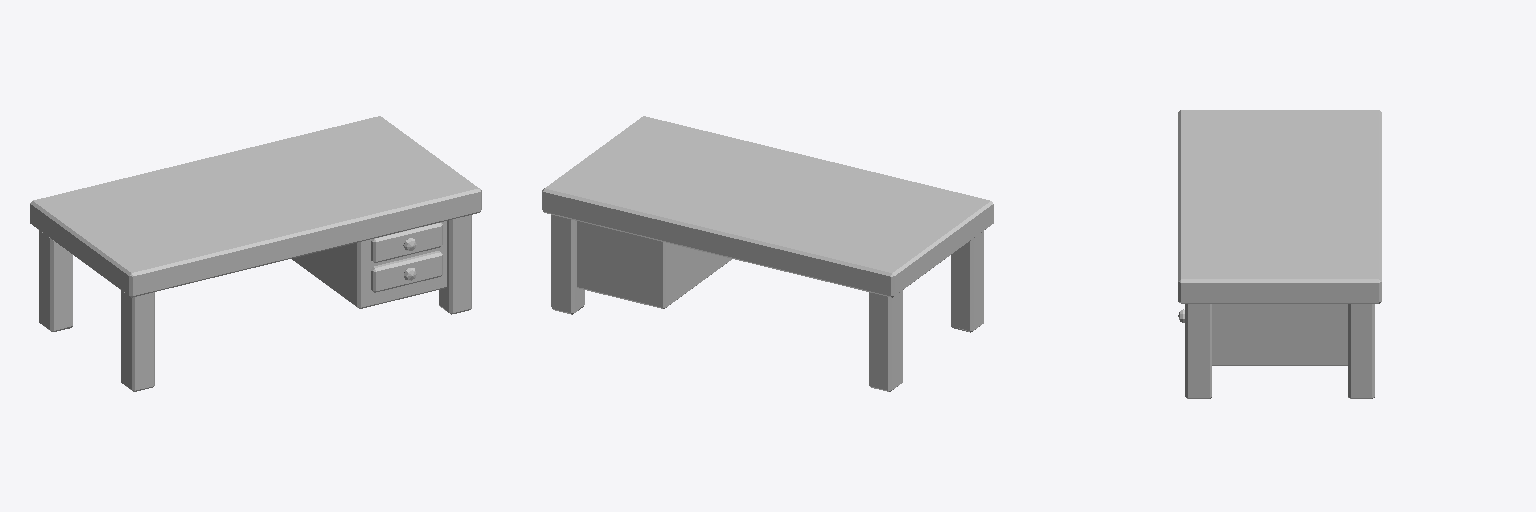
Rendered from desk.obj.
3 renders of one model, left to right at view 1: azimuth 30°, elevation 25°; view 2: azimuth 150°, elevation 25°; view 3: azimuth 270°, elevation 25°, orthographic.
Visible parts, largest first — view 1: desk_Cube.18254; view 2: desk_Cube.18254; view 3: desk_Cube.18254.
Part boxes in pixels (x1,y1,x2,y2): desk_Cube.18254: (30, 116, 481, 391); desk_Cube.18254: (542, 116, 993, 391); desk_Cube.18254: (1178, 110, 1381, 398).
Size of the model in its own units: 3 by 1 by 1.5.